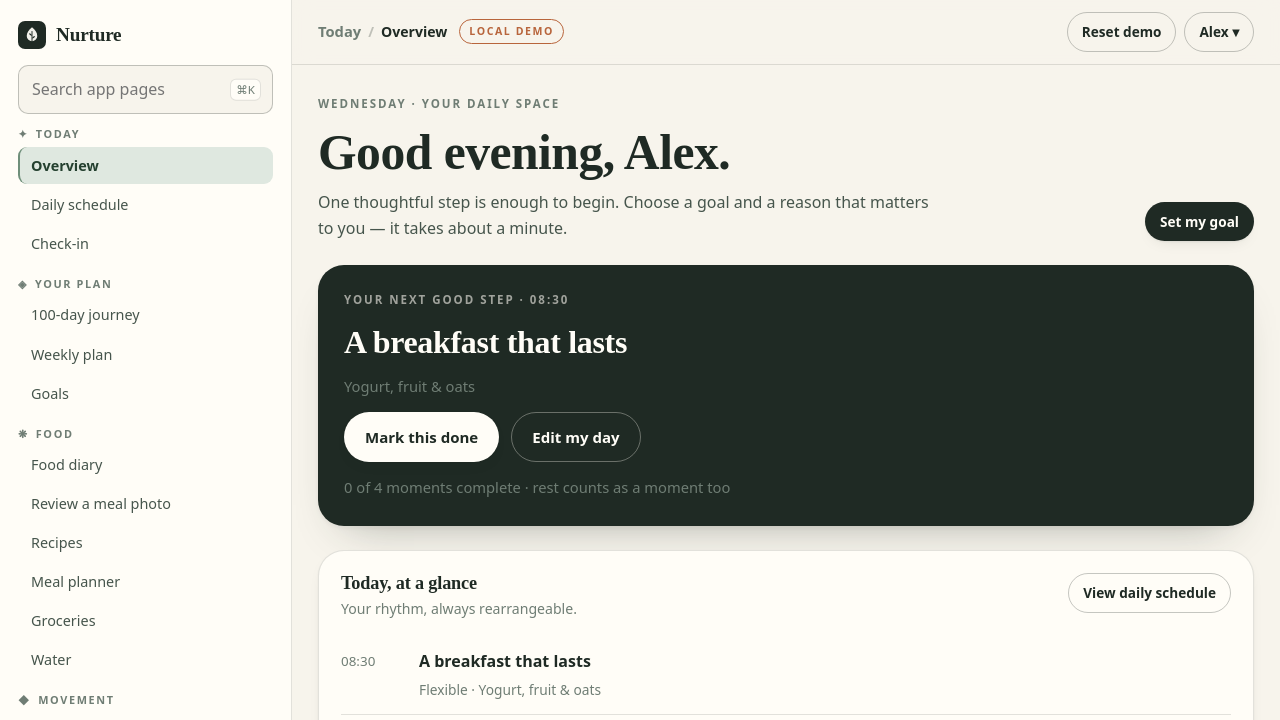
Test: navigation › filters the sidebar by search terms
The image size is (1280, 720).
Type "yoga" into the search field labelled "Search app pages".
click(146, 90); type("yoga")  # box [18,65,273,114]
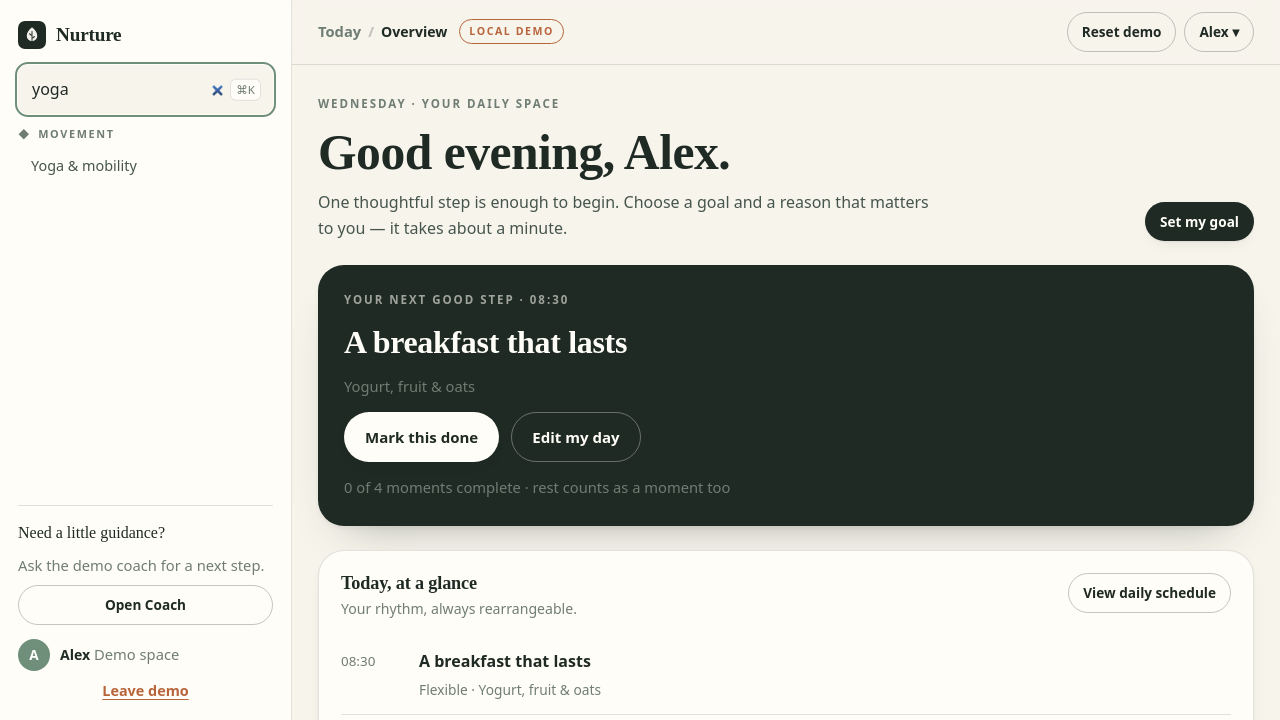
expect the link "Yoga & mobility" is shown: met, box [31,156,137,175]
expect the link "Groceries" is gone: met
